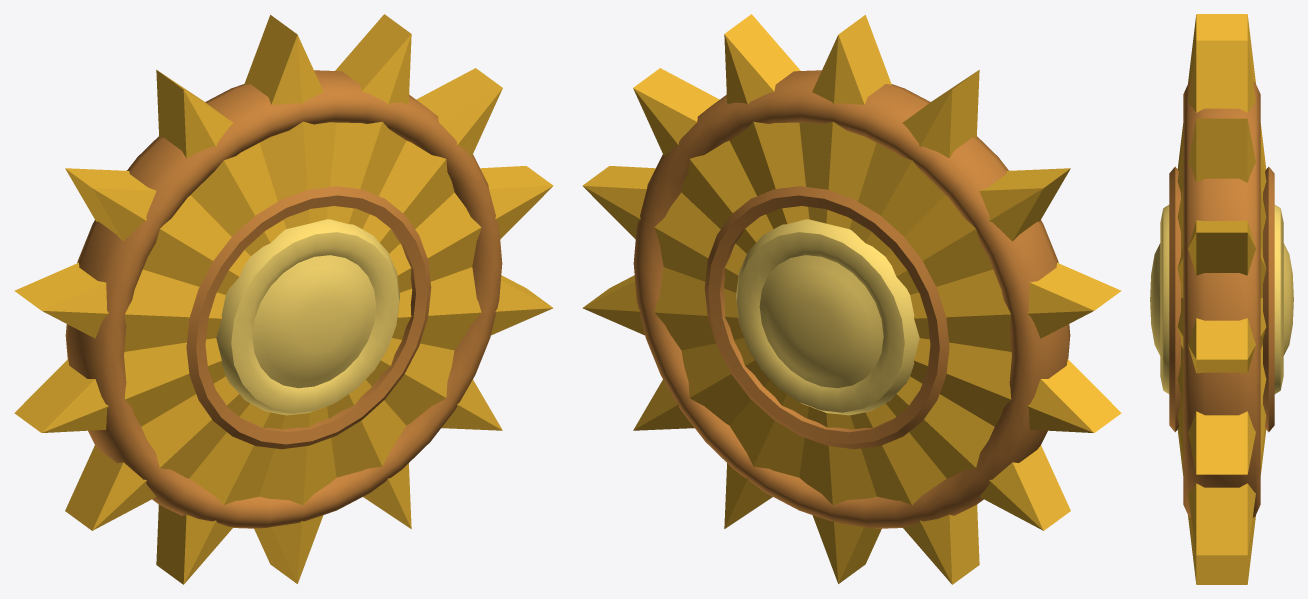
File: star.glb
3 renders of one model, left to right at view 1: azimuth 30°, elevation 25°; view 2: azimuth 150°, elevation 25°; view 3: azimuth 270°, elevation 25°, orthographic. The views are drawn at different scales.
Parts seen in each view (by area): view 1: star; view 2: star; view 3: star.
Part boxes in pixels (left/top/right/bottom): star: left=14, top=14, right=553, bottom=584; star: left=582, top=14, right=1121, bottom=584; star: left=1150, top=14, right=1293, bottom=584.
Size of the model in its own units: 0.9749 by 1 by 0.252.
